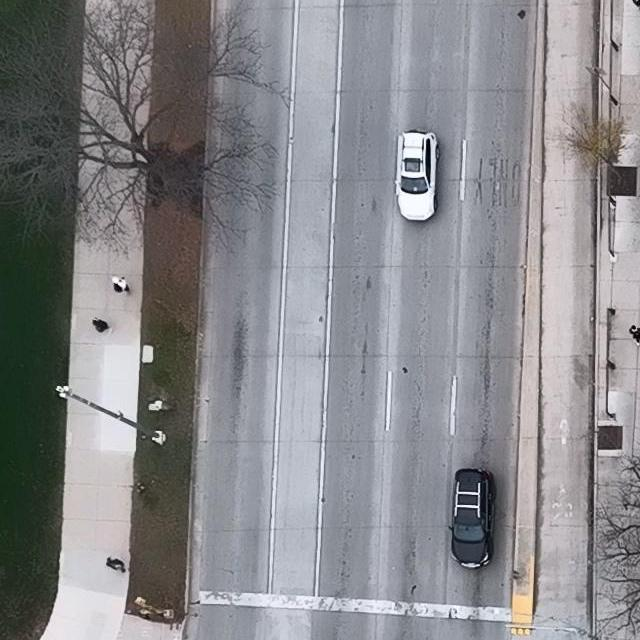car: (448, 469, 497, 569), (393, 129, 441, 222)
